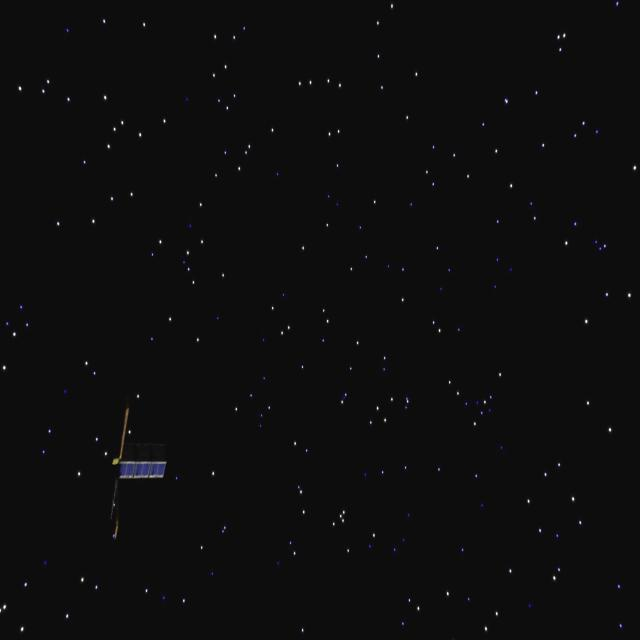satellite: (93, 395, 170, 539)
